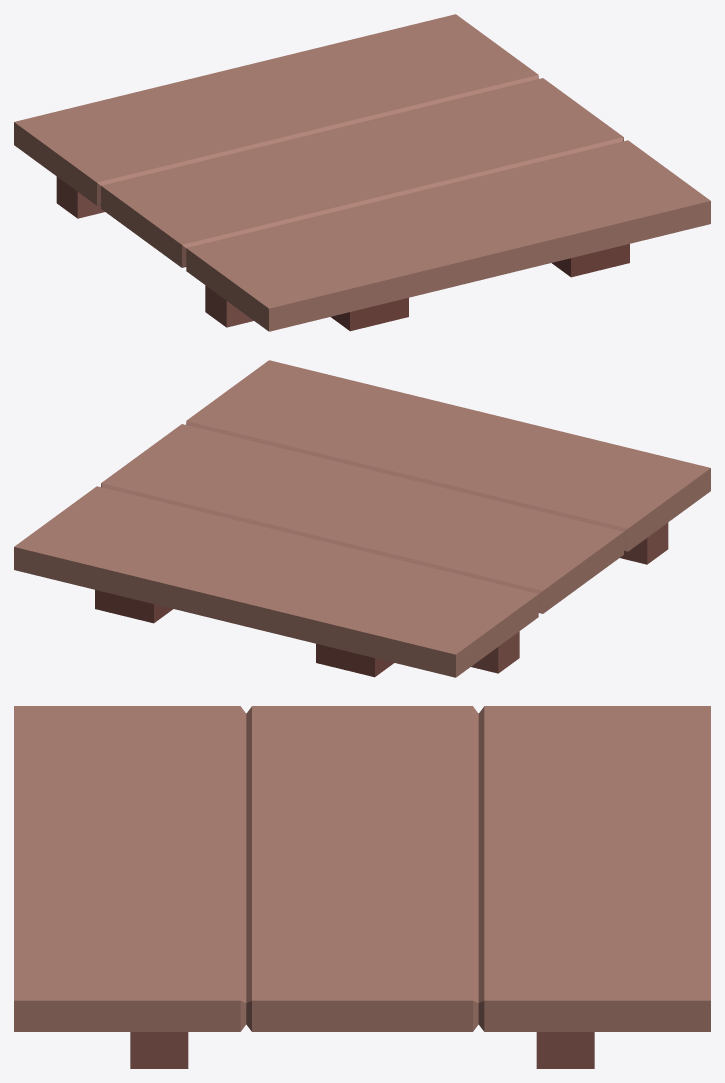
File: RailingPlatform.fbx
3 renders of one model, top to bottom at view 1: azimuth 30°, elevation 25°; view 2: azimuth 150°, elevation 25°; view 3: azimuth 270°, elevation 25°, orthographic. The views are drawn at different scales.
Parts seen in each view (by area): view 1: RailingPlatform; view 2: RailingPlatform; view 3: RailingPlatform.
Part boxes in pixels (bbox=[...]): RailingPlatform: bbox=[14, 14, 710, 331]; RailingPlatform: bbox=[14, 360, 710, 677]; RailingPlatform: bbox=[14, 706, 710, 1068].
Size of the model in its own units: 1.2 by 1.2 by 0.13.
